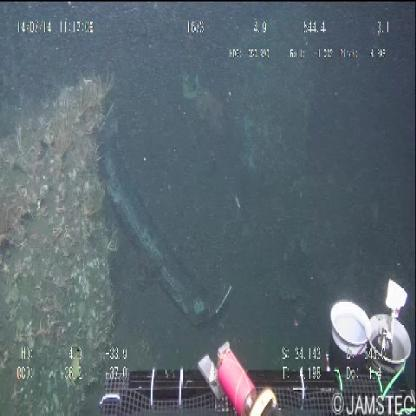Rov: (86, 274, 416, 411)
Rác: (91, 97, 236, 337)
